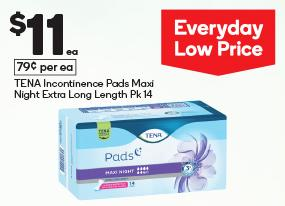description_block: (5, 76, 159, 103)
price_main: (3, 6, 82, 57)
product_image_block: (46, 103, 234, 199)
unit_price_block: (9, 54, 82, 77)
